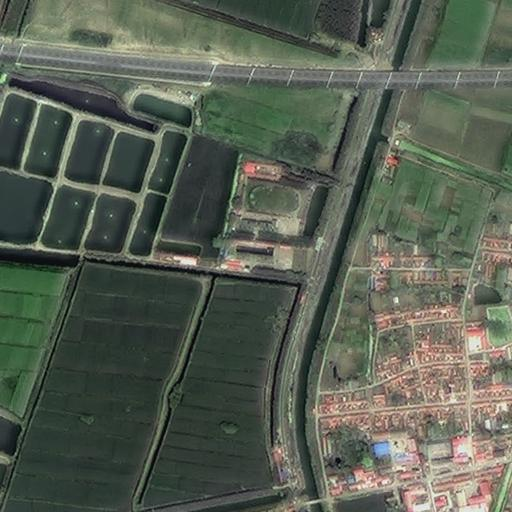school: (215, 155, 316, 271)
